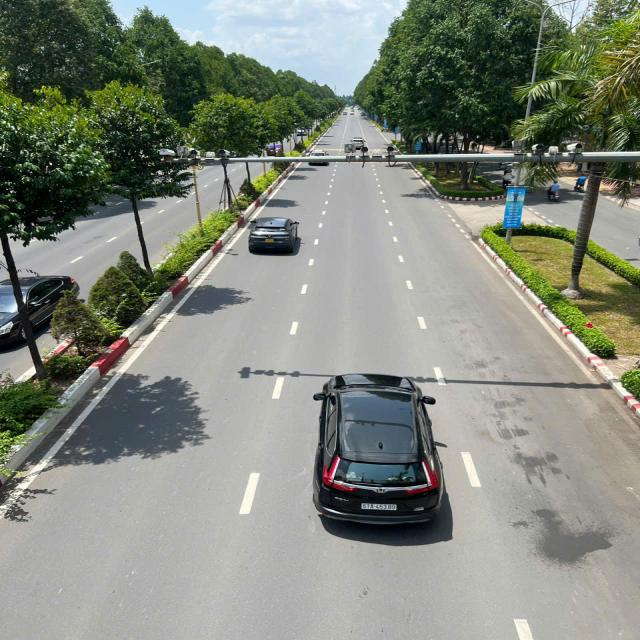car: (310, 368, 459, 550), (250, 214, 297, 258), (311, 148, 331, 166), (348, 135, 366, 150), (342, 111, 347, 116), (349, 112, 354, 116)
